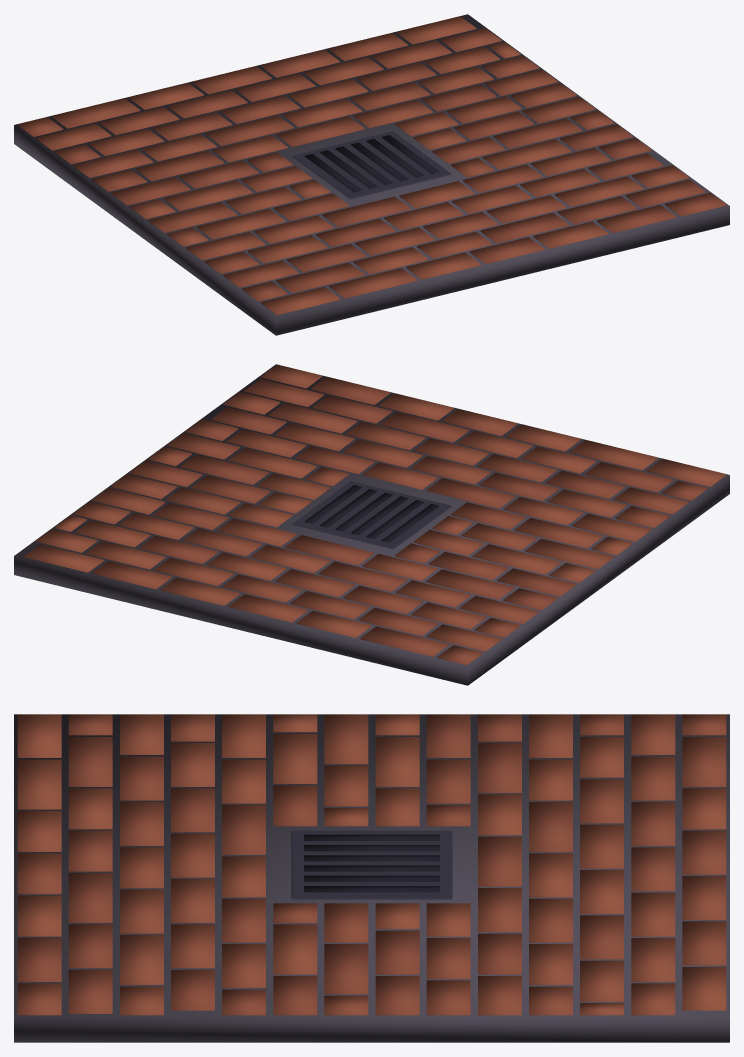
Rendered from alley_floor_2m_drain.glb.
3 views of the same model, one above another, from view 1: azimuth 30°, elevation 25°; view 2: azimuth 150°, elevation 25°; view 3: azimuth 270°, elevation 25° (orthographic). The views are drawn at different scales.
Visible parts, largest first — view 1: alley_floor_2m_drain; view 2: alley_floor_2m_drain; view 3: alley_floor_2m_drain.
Boxes of the visible parts, box(x1,y1,x2,y2) form: alley_floor_2m_drain: box(14, 14, 729, 335); alley_floor_2m_drain: box(14, 364, 729, 685); alley_floor_2m_drain: box(14, 714, 729, 1042).
Size of the model in its own units: 2 by 0.088 by 2.
